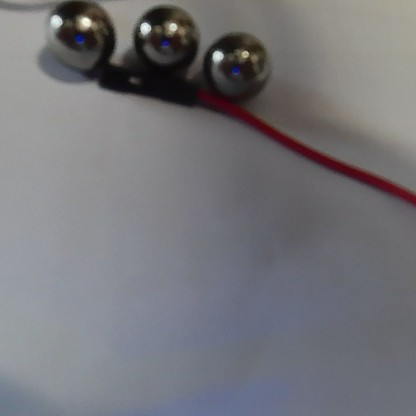ironball: (39, 0, 118, 81), (129, 1, 202, 80), (202, 28, 277, 99)
